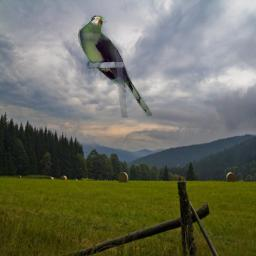Cuckoo: (78, 15, 157, 118)
